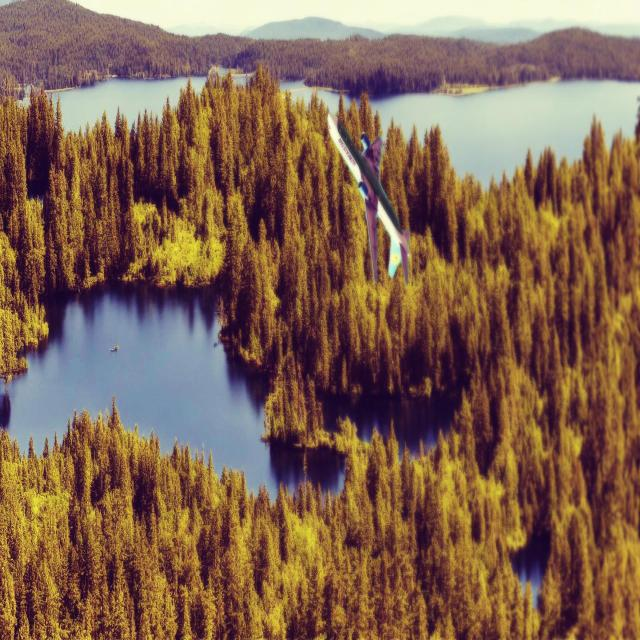airplane: (326, 113, 411, 285)
